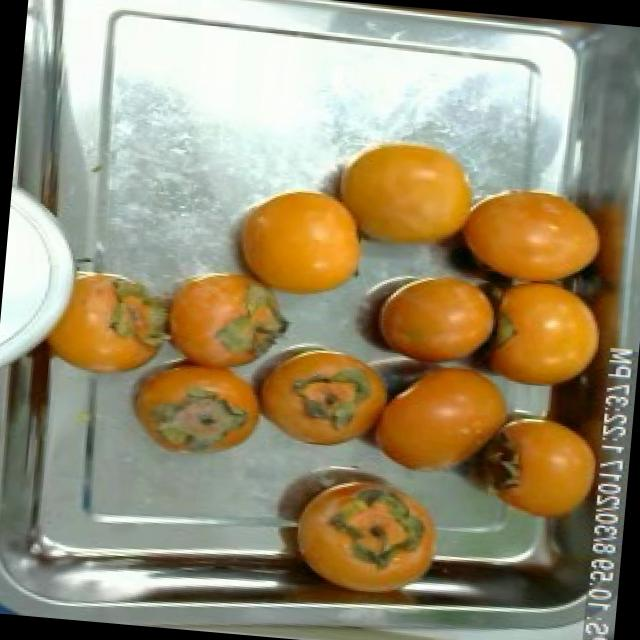Fruit: (266, 452, 462, 604), (308, 123, 495, 270), (212, 169, 382, 314), (439, 396, 611, 538), (351, 358, 527, 496), (444, 169, 620, 293), (231, 336, 397, 466), (132, 255, 300, 382), (454, 270, 619, 396), (337, 264, 515, 370), (44, 255, 180, 393)
